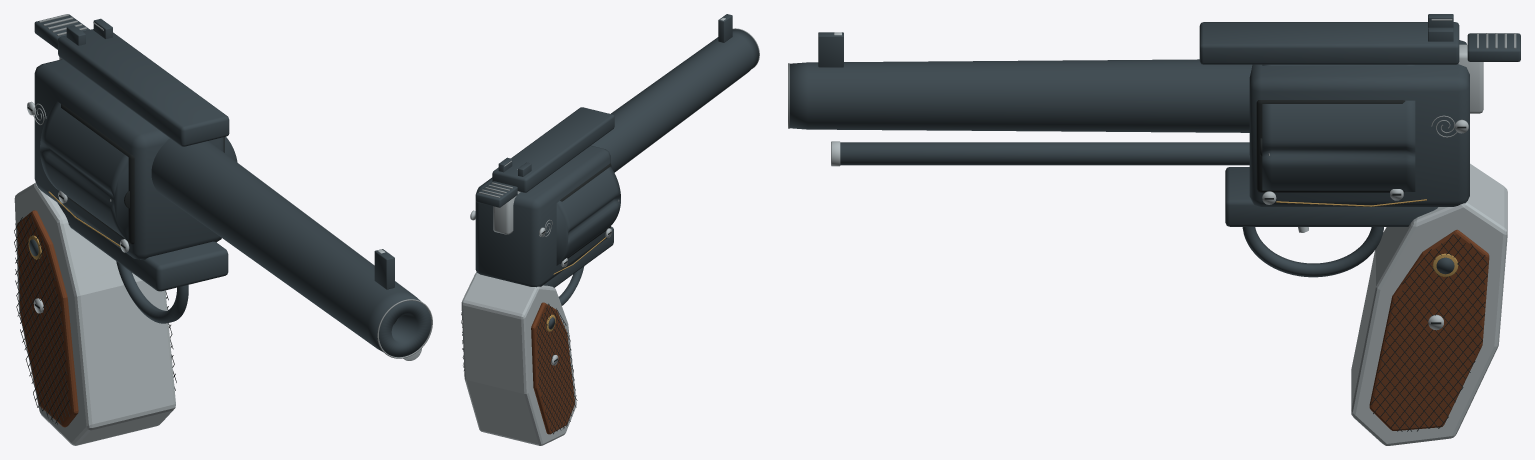
File: revolver.glb
The picture shows the model from 3 angles, left to right: view 1: azimuth 30°, elevation 25°; view 2: azimuth 150°, elevation 25°; view 3: azimuth 270°, elevation 25°; orthographic projection. The views are drawn at different scales.
Visible parts, largest first — view 1: revolver / Deep blued steel, revolver / Satin machined nickel, revolver / Rich oiled walnut, revolver / Recess and rubber, revolver / Fine polished highlights; view 2: revolver / Deep blued steel, revolver / Satin machined nickel, revolver / Rich oiled walnut, revolver / Recess and rubber, revolver / Fine polished highlights; view 3: revolver / Deep blued steel, revolver / Satin machined nickel, revolver / Rich oiled walnut, revolver / Recess and rubber.
Part boxes in pixels (x1,y1,x2,y2): revolver / Deep blued steel: (29, 14, 431, 357); revolver / Satin machined nickel: (14, 57, 421, 445); revolver / Rich oiled walnut: (17, 210, 78, 427); revolver / Recess and rubber: (14, 104, 396, 424); revolver / Fine polished highlights: (33, 14, 432, 358); revolver / Deep blued steel: (475, 14, 758, 329); revolver / Satin machined nickel: (461, 18, 725, 445); revolver / Rich oiled walnut: (531, 302, 574, 434); revolver / Recess and rubber: (461, 163, 611, 434); revolver / Fine polished highlights: (479, 28, 759, 236); revolver / Deep blued steel: (789, 14, 1520, 277); revolver / Satin machined nickel: (831, 32, 1507, 445); revolver / Rich oiled walnut: (1369, 229, 1489, 430); revolver / Recess and rubber: (1256, 100, 1487, 431).
Size of the model in its own units: 0.0645 by 0.1917 by 0.3161.
